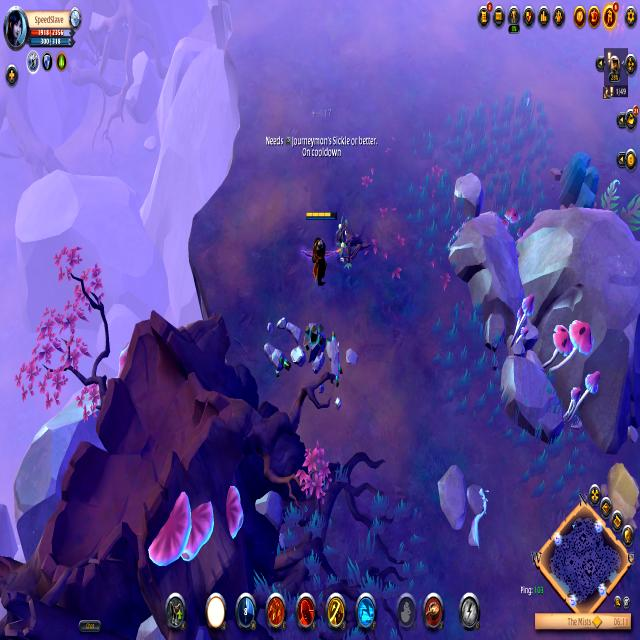hide: (335, 217, 376, 281)
player: (260, 306, 359, 406)
red: (301, 205, 339, 292)
tree: (555, 149, 607, 220)
